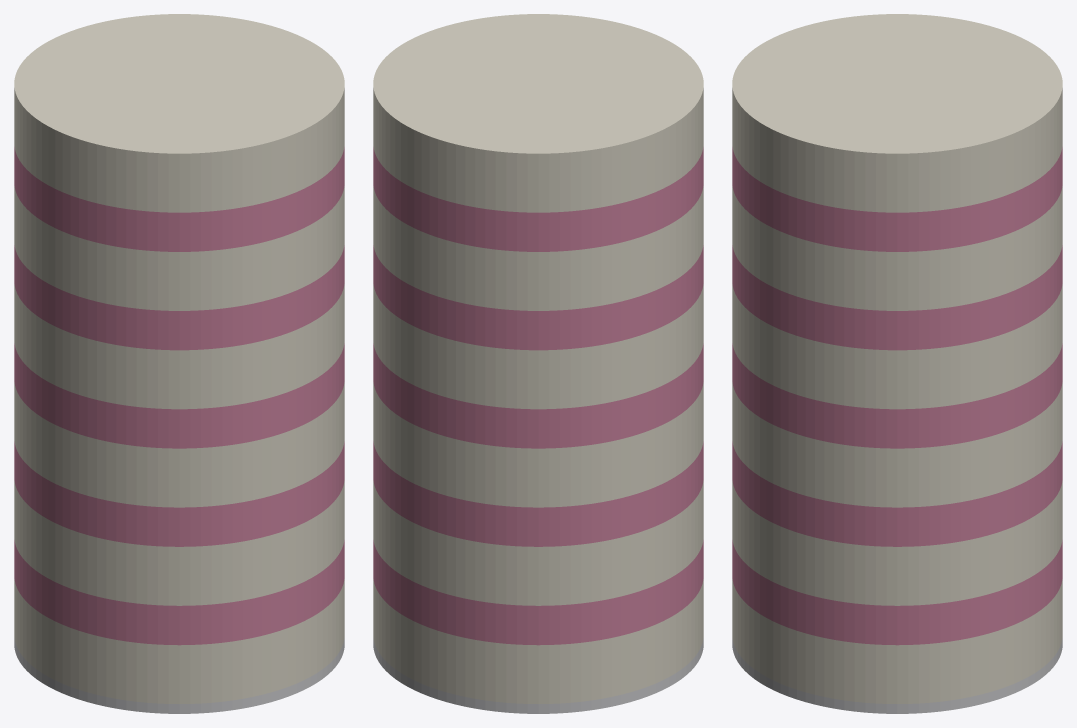
The model's file is cake_6in_layers6.glb.
3 renders of one model, left to right at view 1: azimuth 30°, elevation 25°; view 2: azimuth 150°, elevation 25°; view 3: azimuth 270°, elevation 25°, orthographic.
Parts seen in each view (by area): view 1: geometry_10, geometry_8, geometry_2, geometry_4, geometry_6, geometry_0, geometry_5, geometry_7, geometry_3, geometry_9, geometry_1, geometry_11; view 2: geometry_10, geometry_8, geometry_2, geometry_4, geometry_6, geometry_0, geometry_5, geometry_7, geometry_3, geometry_9, geometry_1, geometry_11; view 3: geometry_10, geometry_8, geometry_2, geometry_4, geometry_6, geometry_0, geometry_5, geometry_7, geometry_3, geometry_9, geometry_1, geometry_11.
Boxes of the visible parts, x1,y1,x2,y2 form: geometry_10: [14, 14, 344, 212]; geometry_8: [14, 186, 344, 310]; geometry_2: [14, 481, 344, 605]; geometry_4: [14, 382, 344, 507]; geometry_6: [14, 284, 344, 409]; geometry_0: [14, 579, 344, 703]; geometry_5: [14, 343, 344, 448]; geometry_7: [14, 245, 344, 350]; geometry_3: [14, 441, 344, 546]; geometry_9: [14, 147, 344, 251]; geometry_1: [14, 540, 344, 645]; geometry_11: [14, 638, 344, 713]; geometry_10: [373, 14, 703, 212]; geometry_8: [373, 186, 703, 310]; geometry_2: [373, 481, 703, 605]; geometry_4: [373, 382, 703, 507]; geometry_6: [373, 284, 703, 409]; geometry_0: [373, 579, 703, 703]; geometry_5: [373, 343, 703, 448]; geometry_7: [373, 245, 703, 350]; geometry_3: [373, 441, 703, 546]; geometry_9: [373, 147, 703, 251]; geometry_1: [373, 540, 703, 645]; geometry_11: [373, 638, 703, 713]; geometry_10: [732, 14, 1062, 212]; geometry_8: [732, 186, 1062, 310]; geometry_2: [732, 481, 1062, 605]; geometry_4: [732, 382, 1062, 507]; geometry_6: [732, 284, 1062, 409]; geometry_0: [732, 579, 1062, 703]; geometry_5: [732, 343, 1062, 448]; geometry_7: [732, 245, 1062, 350]; geometry_3: [732, 441, 1062, 546]; geometry_9: [732, 147, 1062, 251]; geometry_1: [732, 540, 1062, 645]; geometry_11: [732, 638, 1062, 713].
Bounding box in the file's own units: 0.1524 × 0.285 × 0.1524.
